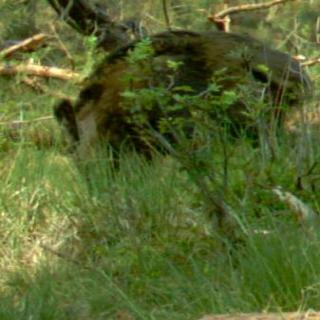Pig: (58, 28, 320, 187)
